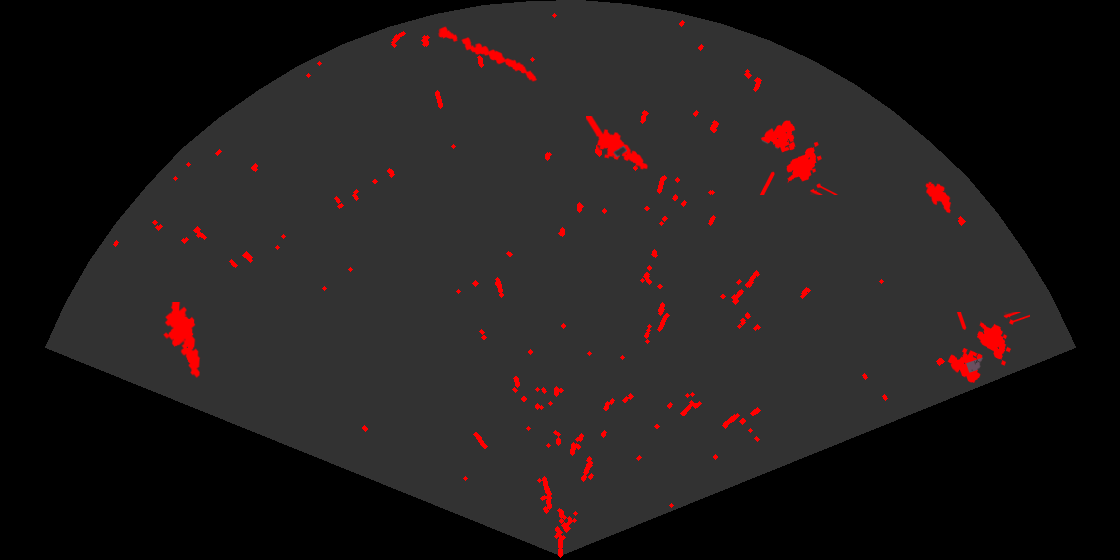AUV: (924, 180, 953, 215)
cage: (758, 119, 839, 195), (946, 312, 1030, 384)
chain: (436, 25, 539, 83)
frogman: (586, 116, 650, 171), (162, 302, 202, 378)
